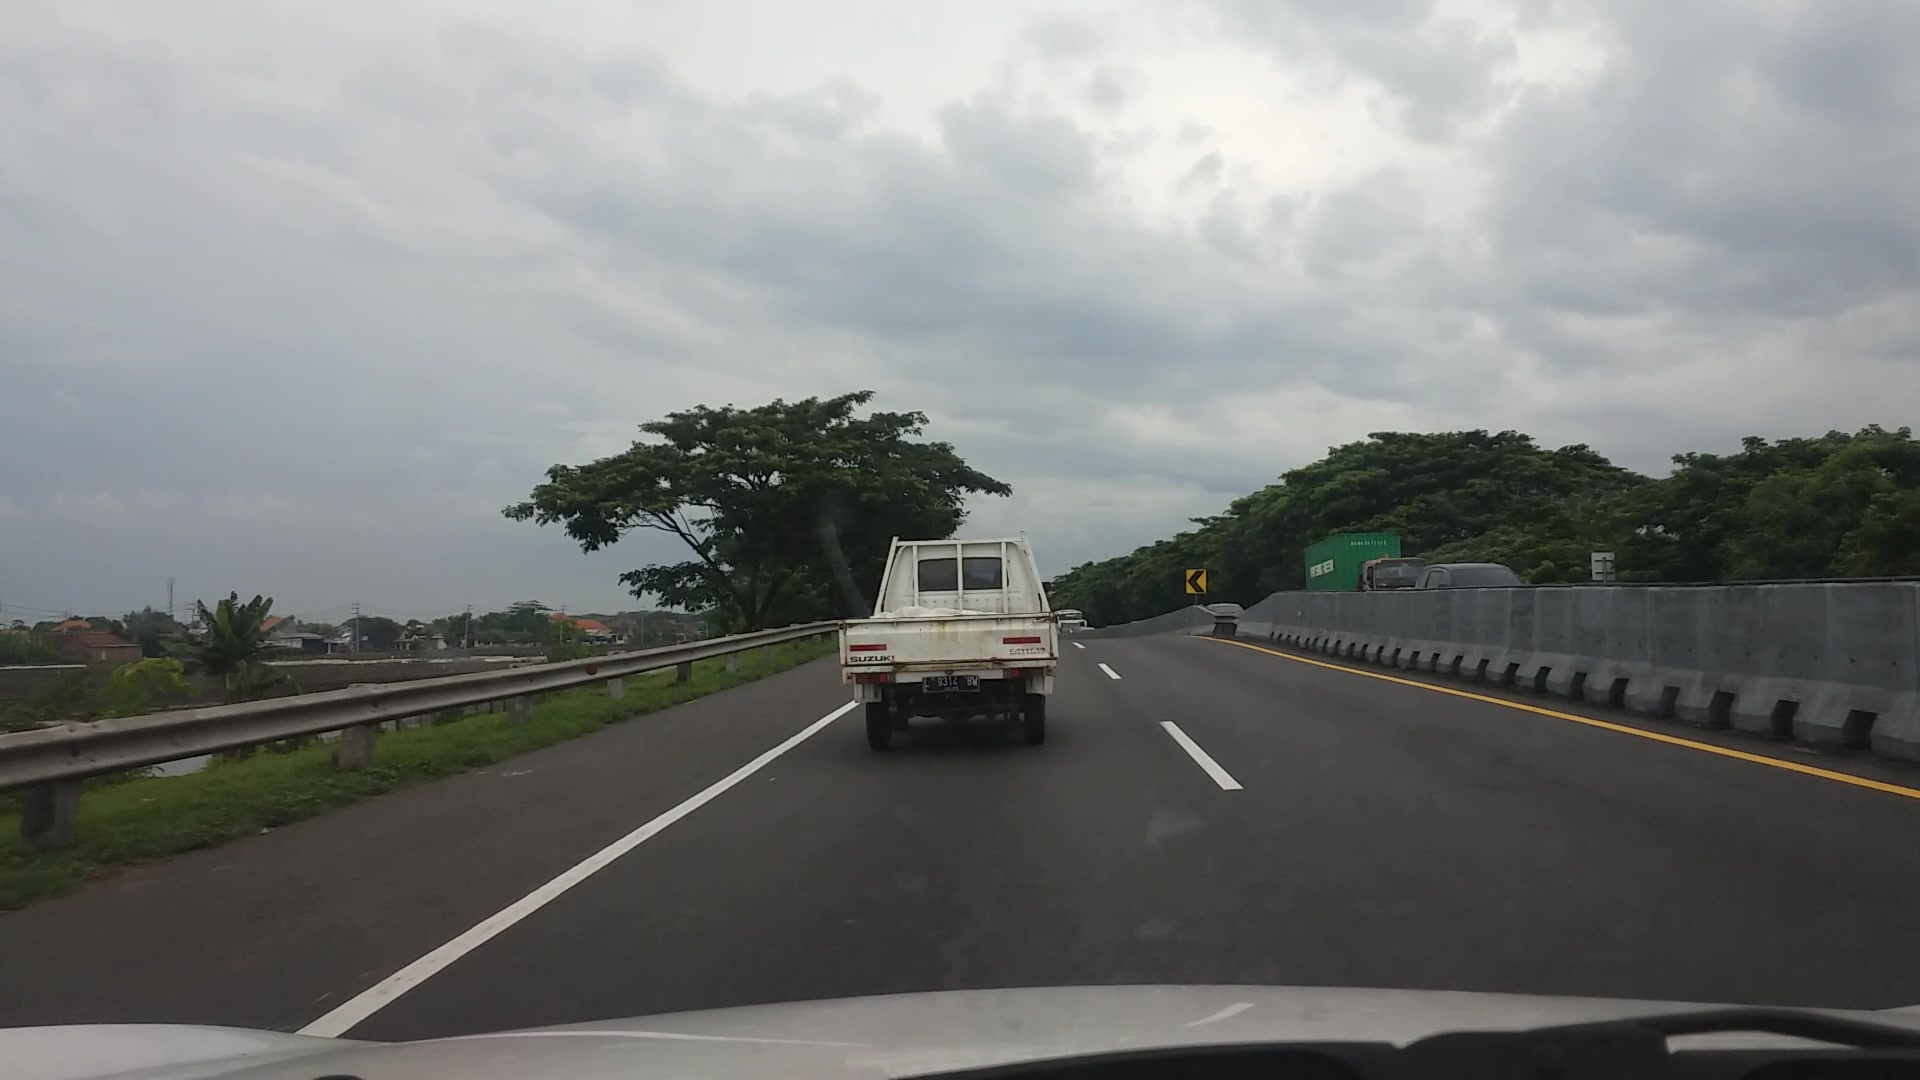plate_positive: (922, 675, 980, 694)
